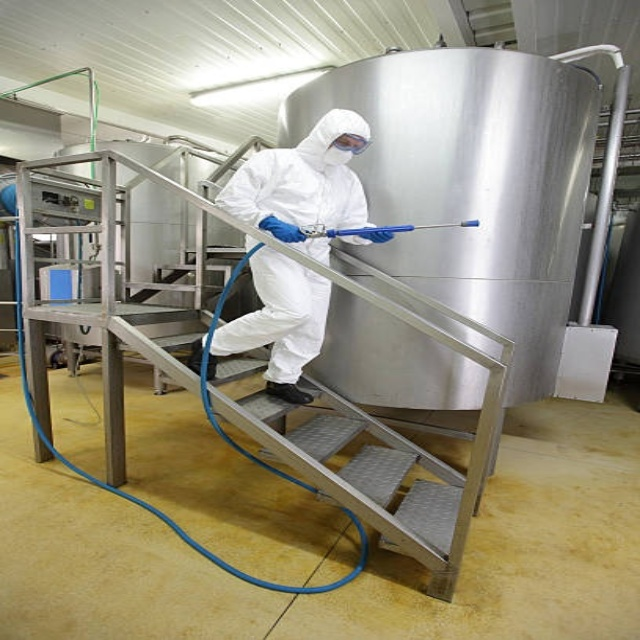Gafas: (332, 133, 370, 154)
Guantes: (259, 216, 304, 243), (357, 229, 395, 244)
Mascara: (322, 142, 356, 167)
